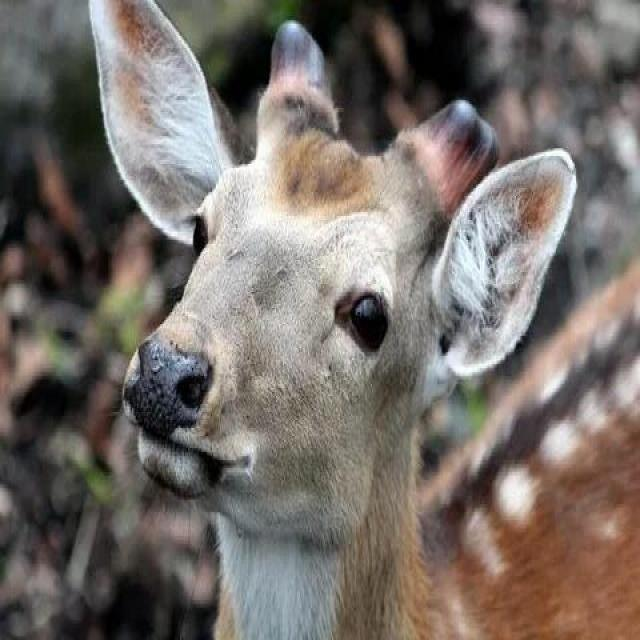deer: (80, 20, 584, 621)
